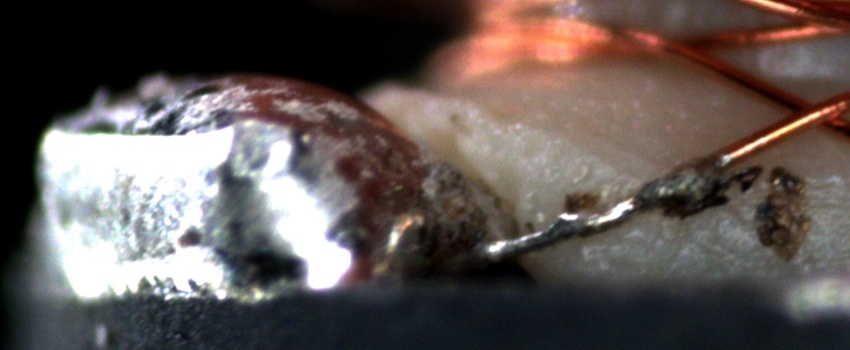CL: (765, 86, 845, 139)
DL: (675, 161, 850, 203)
TS: (478, 150, 732, 262)
TTCW: (474, 138, 754, 263)
